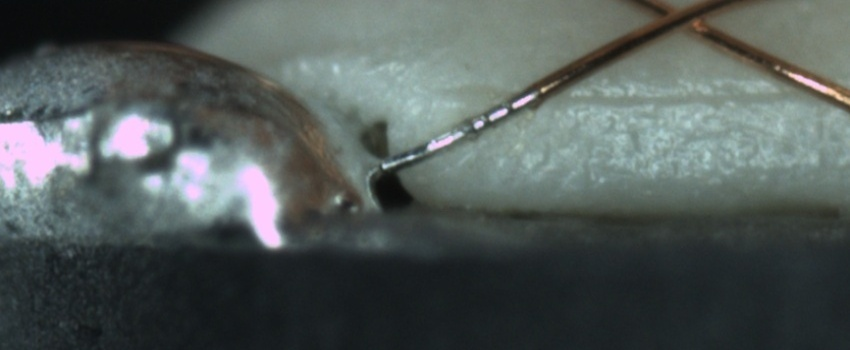CL: (640, 0, 724, 41)
DL: (552, 70, 842, 129)
TS: (376, 86, 542, 173)
TTCW: (376, 59, 586, 174)
